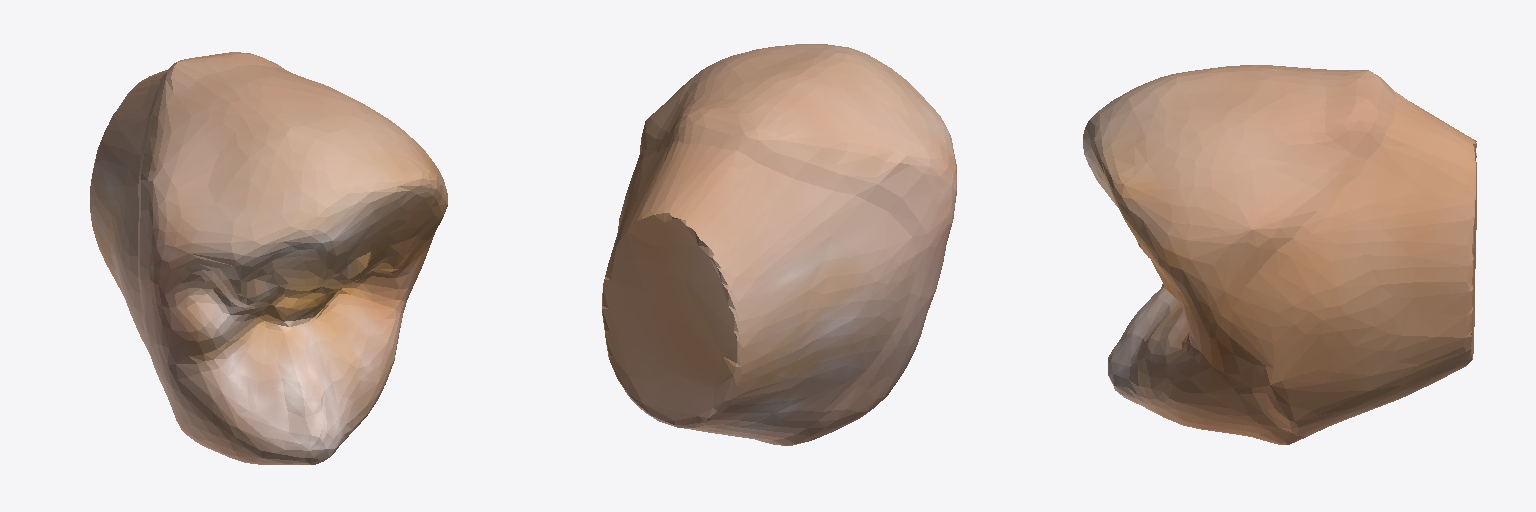
3 renders of one model, left to right at view 1: azimuth 30°, elevation 25°; view 2: azimuth 150°, elevation 25°; view 3: azimuth 270°, elevation 25°, orthographic.
Bounding box in the file's own units: 7.87 × 9.25 × 9.4.
Materials: 1 (1 with a texture image).